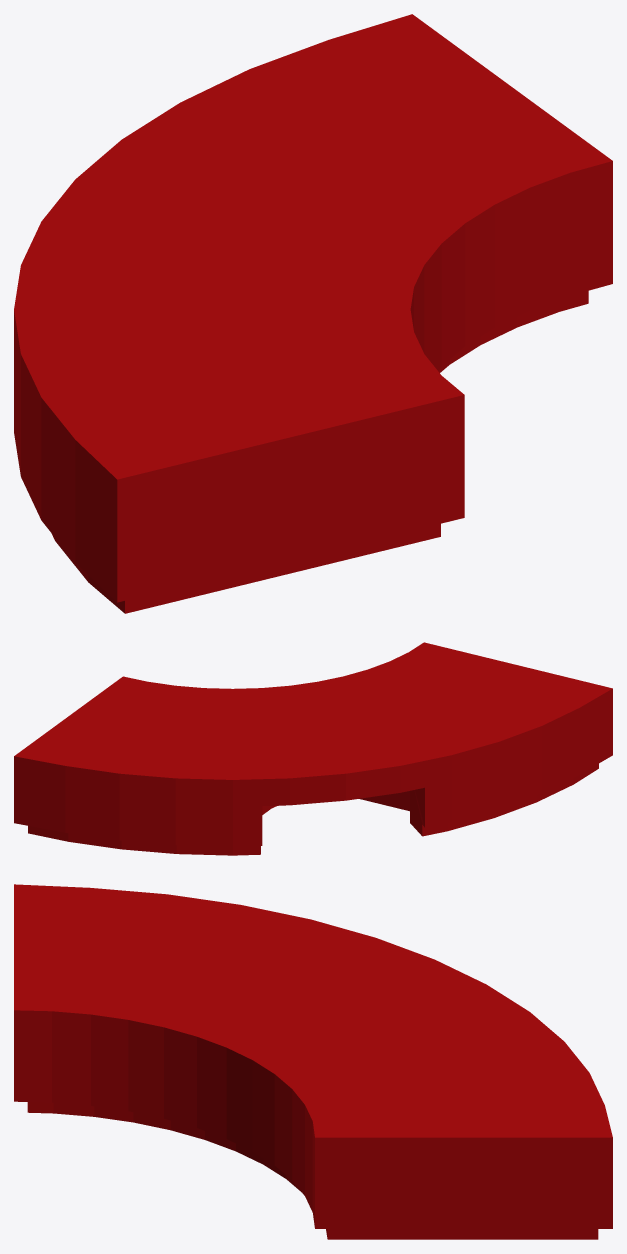
Rendered from 27925 flat tile round 2x2.dae.
The picture shows the model from 3 angles, top to bottom: view 1: azimuth 30°, elevation 25°; view 2: azimuth 150°, elevation 25°; view 3: azimuth 270°, elevation 25°; orthographic projection. The views are drawn at different scales.
Visible parts, largest first — view 1: Part_27925.1; view 2: Part_27925.1; view 3: Part_27925.1.
Boxes of the visible parts, <box> form: Part_27925.1: <box>14,14,612,613</box>; Part_27925.1: <box>14,642,612,855</box>; Part_27925.1: <box>14,884,612,1239</box>.
Bounding box in the file's own units: 15.92 × 3.16 × 15.92.
